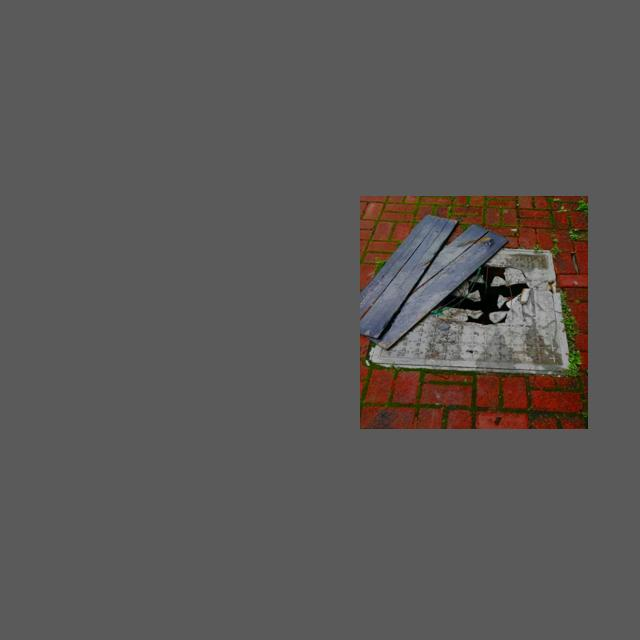broke: (366, 235, 572, 377)
